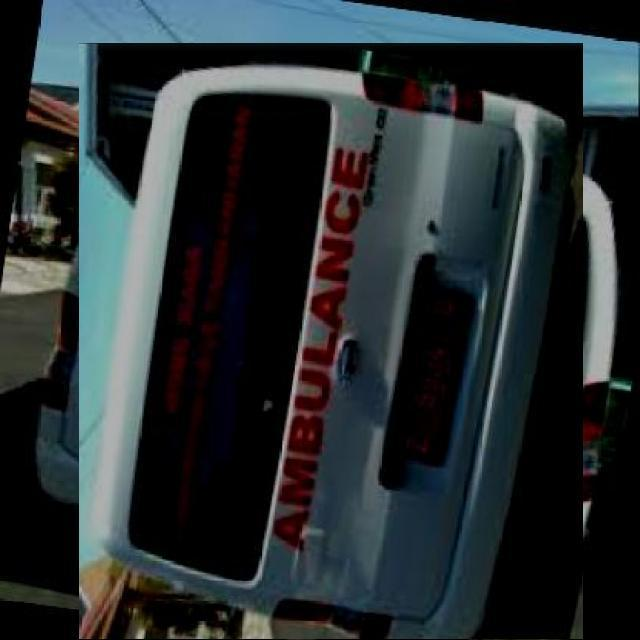emergency-vehicle: (51, 70, 612, 630)
